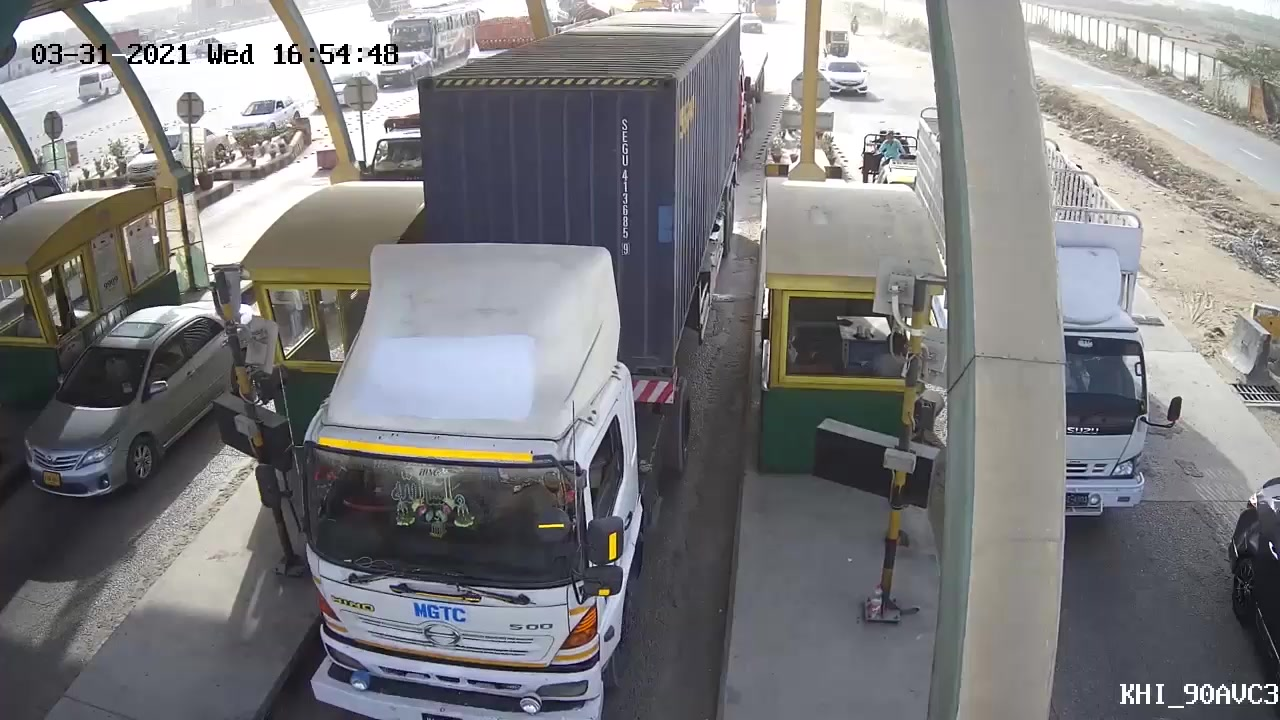F6: (298, 1, 748, 716)
